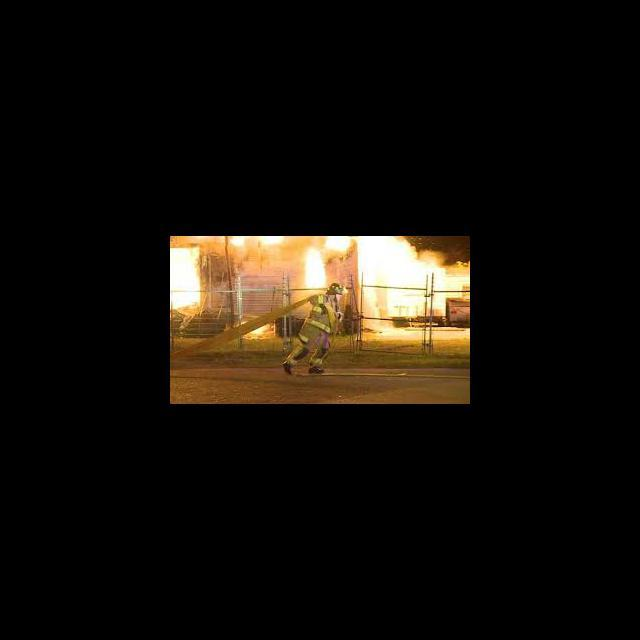Fire: (359, 236, 444, 316), (170, 246, 200, 312), (304, 247, 326, 288), (258, 236, 286, 245), (327, 237, 348, 249), (229, 237, 244, 246)
